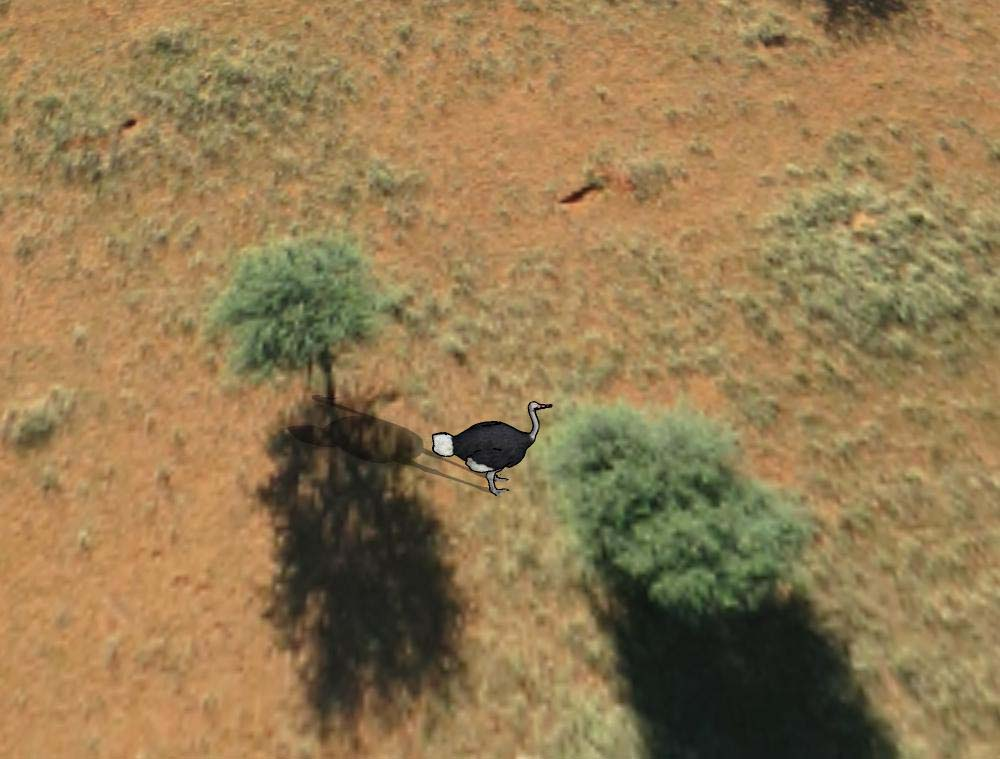springbok: (430, 398, 557, 498)
